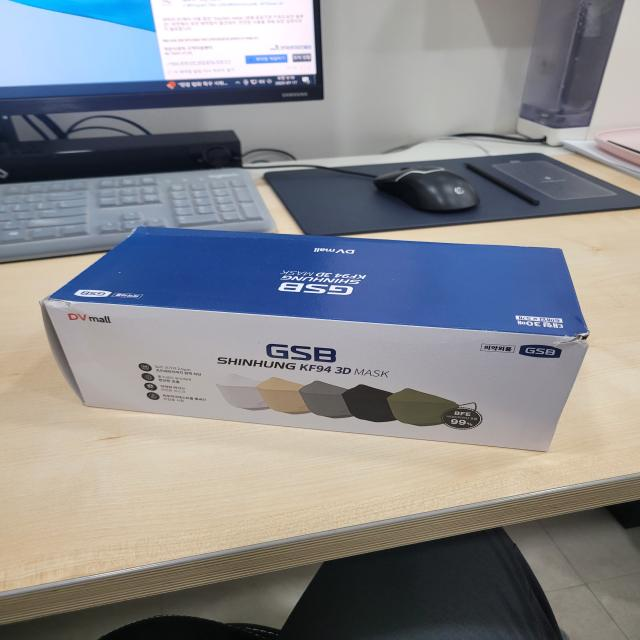mask: (41, 215, 612, 468)
